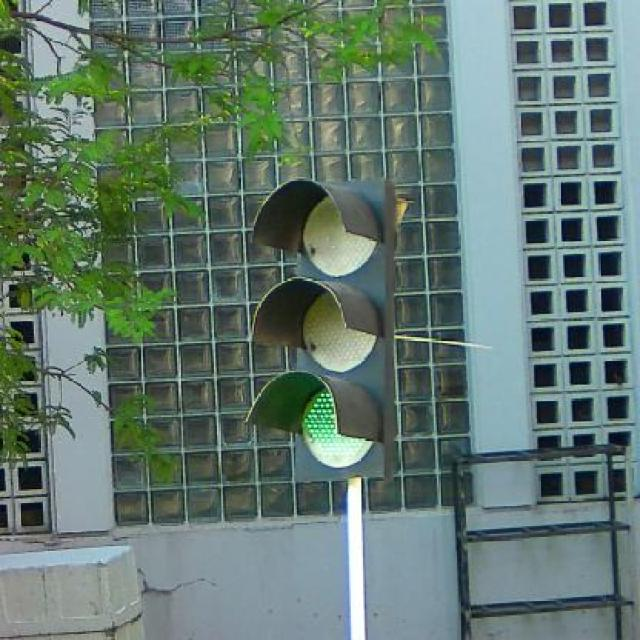green light: (260, 185, 398, 477)
